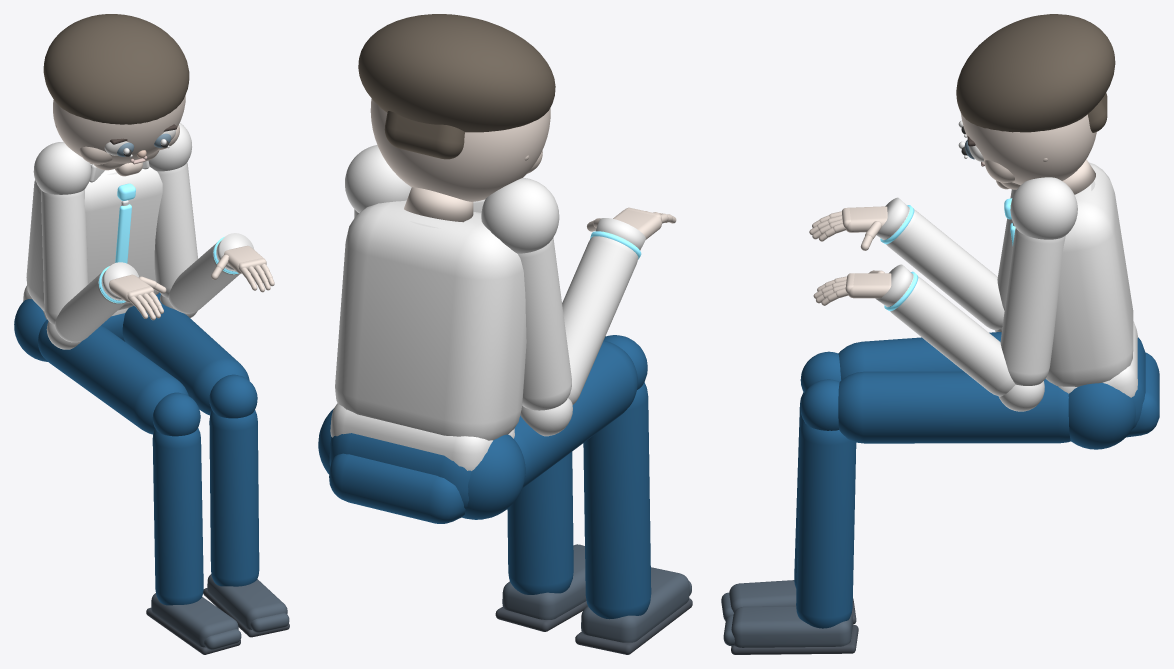
The model's file is humanoid-sitting.glb.
The picture shows the model from 3 angles, left to right: view 1: azimuth 30°, elevation 25°; view 2: azimuth 150°, elevation 25°; view 3: azimuth 270°, elevation 25°; orthographic projection. The views are drawn at different scales.
Visible parts, largest first — view 1: Hair, LowerLeg_L, LowerLeg_R, Shirt, UpperLeg_L, UpperLeg_R, UpperArm_L, UpperArm_R, Head, Shoulder_L, ForeArm_L, Foot_L (+16 smaller); view 2: Shirt, Hair, LowerLeg_L, Head, LowerLeg_R, ForeArm_L, UpperArm_L, UpperLeg_L, SeatMass, Shoulder_L, ShirtTail, Hip_L (+13 smaller); view 3: Hair, UpperLeg_R, Shirt, LowerLeg_R, UpperArm_R, ForeArm_R, ForeArm_L, Head, Foot_R, Hip_R, Shoulder_R, UpperLeg_L (+13 smaller).
Part boxes in pixels (bbox=[...]): Hair: bbox=[43, 14, 189, 124]; LowerLeg_L: bbox=[152, 428, 203, 605]; LowerLeg_R: bbox=[209, 410, 259, 586]; Shirt: bbox=[26, 164, 162, 311]; UpperLeg_L: bbox=[38, 319, 188, 434]; UpperLeg_R: bbox=[122, 292, 249, 415]; UpperArm_L: bbox=[41, 189, 88, 324]; UpperArm_R: bbox=[154, 162, 197, 297]; Head: bbox=[53, 94, 185, 163]; Shoulder_L: bbox=[33, 142, 91, 194]; ForeArm_L: bbox=[55, 272, 126, 342]; Foot_L: bbox=[151, 593, 238, 647]; Shirt: bbox=[335, 200, 526, 440]; Hair: bbox=[358, 14, 555, 132]; LowerLeg_L: bbox=[583, 382, 651, 619]; Head: bbox=[370, 99, 550, 201]; LowerLeg_R: bbox=[507, 452, 573, 594]; ForeArm_L: bbox=[562, 236, 638, 404]; UpperArm_L: bbox=[518, 237, 571, 410]; UpperLeg_L: bbox=[514, 340, 637, 487]; SeatMass: bbox=[329, 453, 465, 523]; Shoulder_L: bbox=[481, 178, 559, 253]; ShirtTail: bbox=[330, 403, 514, 470]; Hip_L: bbox=[462, 434, 525, 519]; Hair: bbox=[956, 14, 1115, 132]; UpperLeg_R: bbox=[838, 371, 1070, 443]; Shirt: bbox=[1045, 162, 1133, 386]; LowerLeg_R: bbox=[796, 420, 856, 628]; UpperArm_R: bbox=[1000, 228, 1065, 385]; ForeArm_R: bbox=[887, 274, 1015, 396]; ForeArm_L: bbox=[884, 208, 1004, 330]; Head: bbox=[960, 112, 1096, 185]; Foot_R: bbox=[731, 606, 852, 647]; Hip_R: bbox=[1068, 382, 1135, 449]; Shoulder_R: bbox=[1010, 177, 1077, 239]; UpperLeg_L: bbox=[838, 332, 1001, 379].
Bounding box in the file's own units: 0.3756 × 1.24 × 0.8047.
